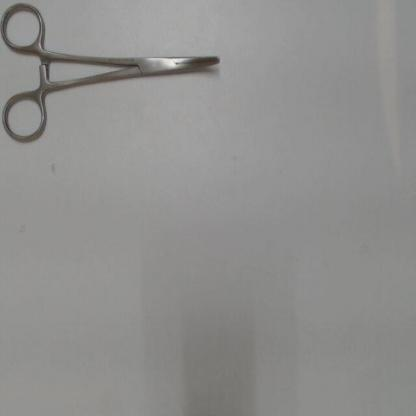Crile Artery Forceps: (0, 0, 230, 143)
